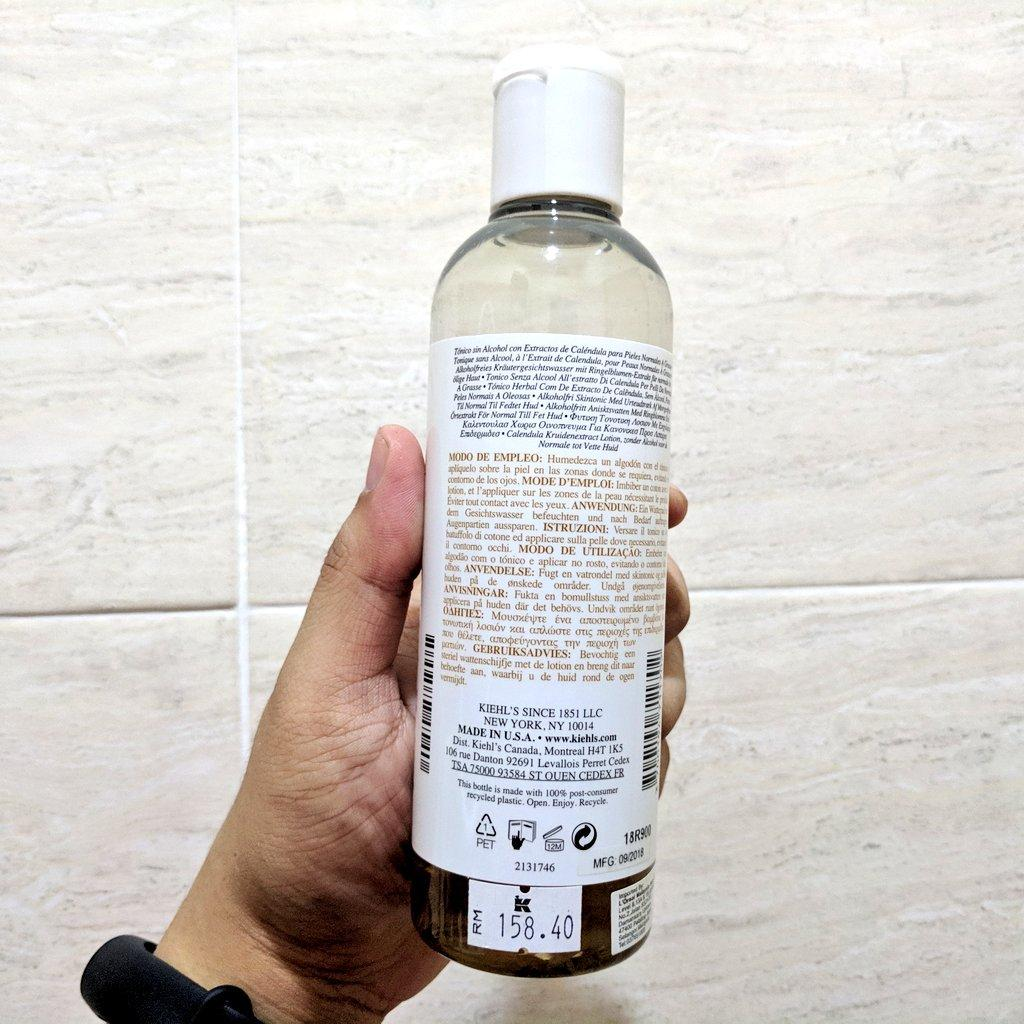plastic: (412, 45, 688, 976)
